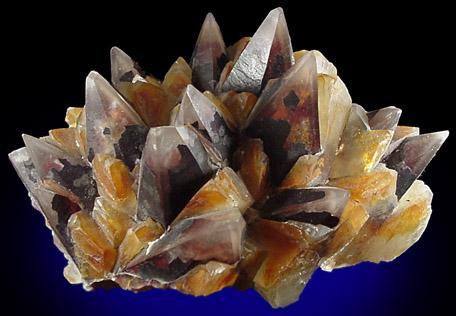calcite: (9, 7, 450, 308)
